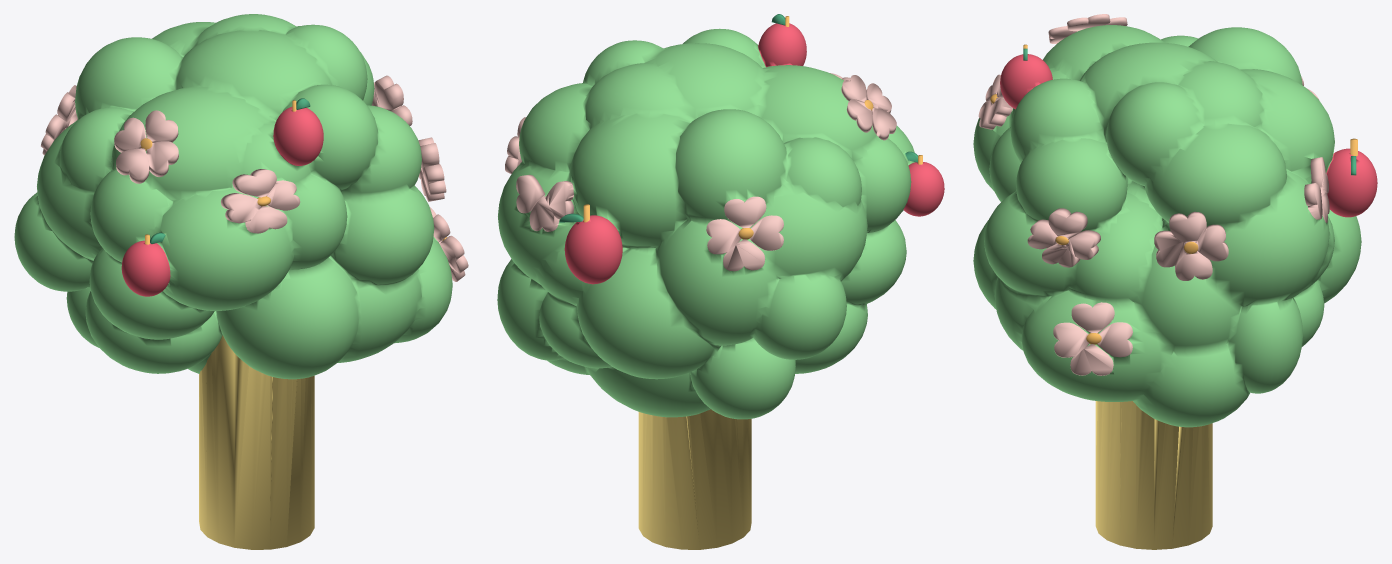
File: level9.glb
3 views of the same model, side by side, from view 1: azimuth 30°, elevation 25°; view 2: azimuth 150°, elevation 25°; view 3: azimuth 270°, elevation 25° (orthographic). The views are drawn at different scales.
Parts seen in each view (by area): view 1: obj_0.019; view 2: obj_0.019; view 3: obj_0.019.
Part boxes in pixels (x1,y1,x2,y2): obj_0.019: (14,14,468,549); obj_0.019: (497,14,944,549); obj_0.019: (973,14,1377,549).
Bounding box in the file's own units: 76 × 98 × 76.
